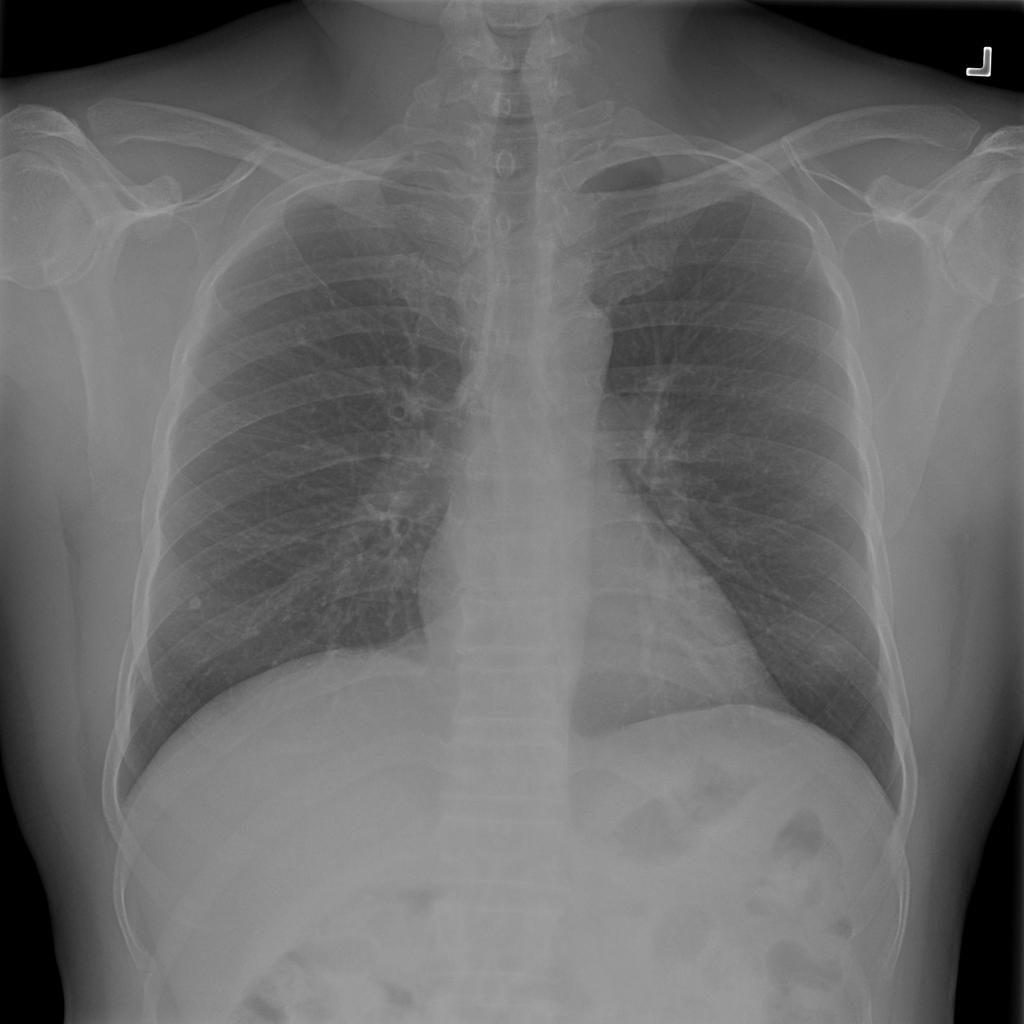nodule: (178, 589, 209, 618)
